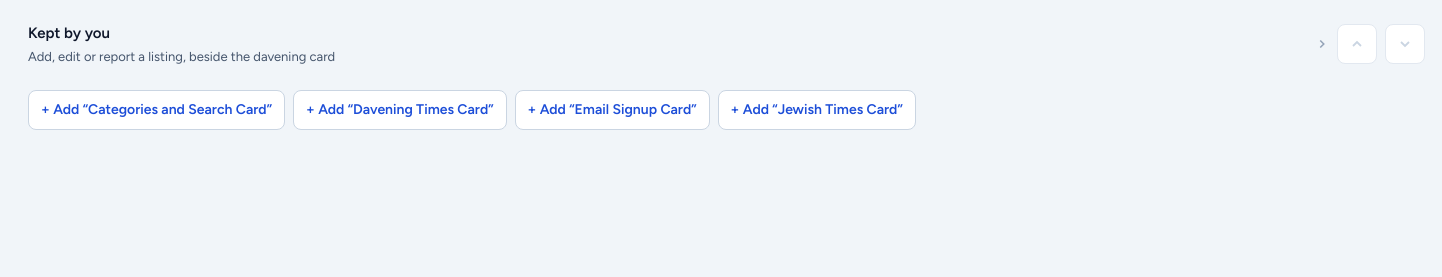
DesktopTopicsManager › shows Eyebrow and Heading inputs for a card that has both, seeded from settings
Click the button "Kept by you". click: (69, 33)
box: [12,12,1329,76]
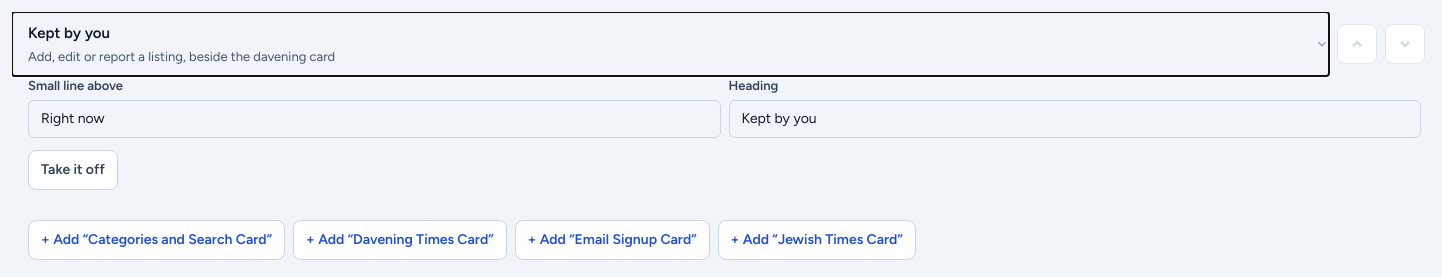
Expected: the field showing "Right now" is shown, [28,100,720,138]
Expected: the field showing "Kept by you" is shown, [728,100,1421,138]
